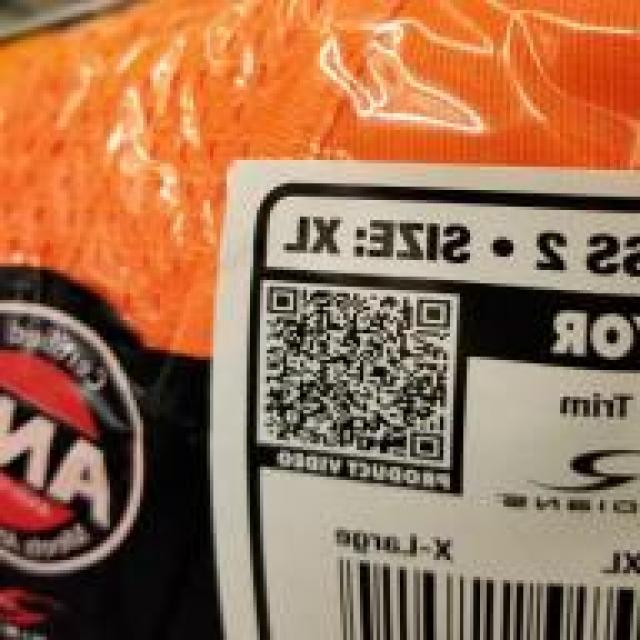qr_code: (267, 286, 451, 461)
